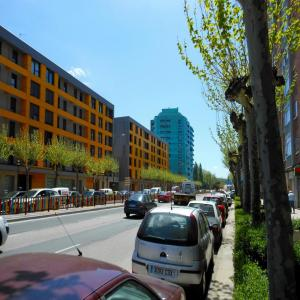Vehicle-registration-plate: (149, 266, 177, 278)
